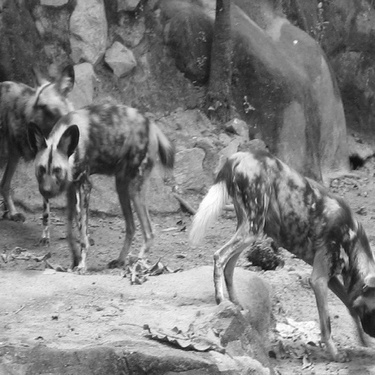dog: (182, 145, 372, 367), (24, 96, 181, 280), (3, 60, 78, 228)
